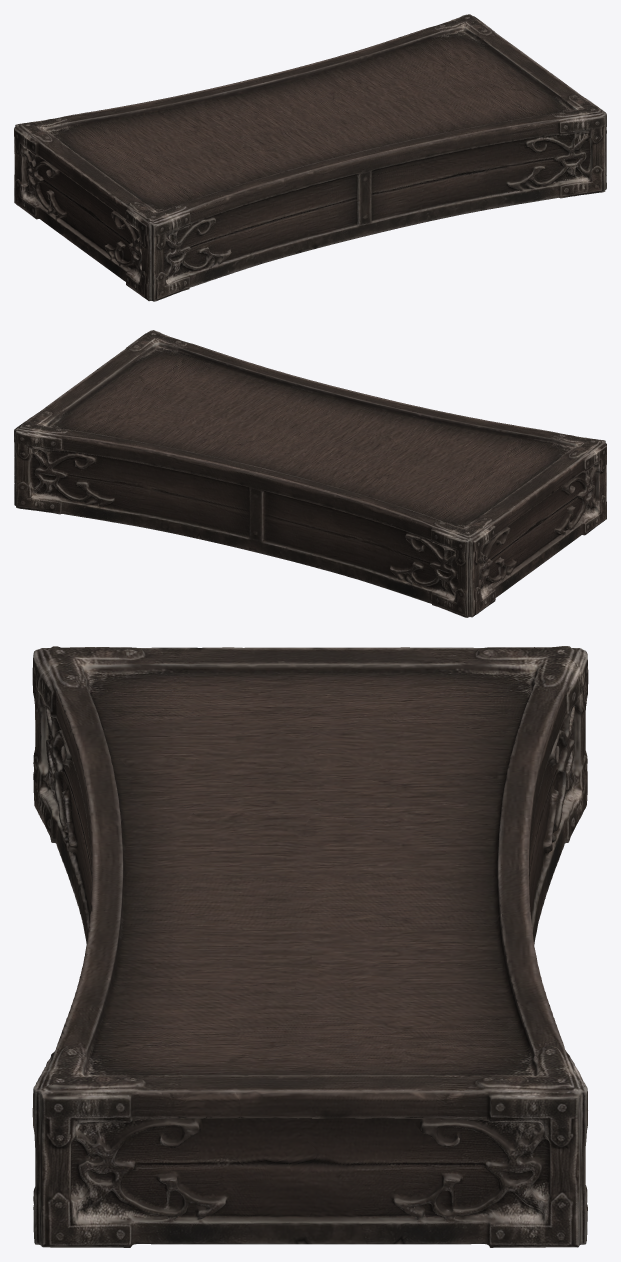
File: Meshy_AI_Ironbound_Shadow_Ches_1013161525_texture.obj
3 renders of one model, top to bottom at view 1: azimuth 30°, elevation 25°; view 2: azimuth 150°, elevation 25°; view 3: azimuth 270°, elevation 25°, orthographic. The views are drawn at different scales.
Visible parts, largest first — view 1: Meshy_AI_Ironbound_Shadow_Ches_1013161525_texture; view 2: Meshy_AI_Ironbound_Shadow_Ches_1013161525_texture; view 3: Meshy_AI_Ironbound_Shadow_Ches_1013161525_texture.
Part boxes in pixels (box(x1,y1,x2,y2)): Meshy_AI_Ironbound_Shadow_Ches_1013161525_texture: box(14, 14, 606, 301); Meshy_AI_Ironbound_Shadow_Ches_1013161525_texture: box(14, 330, 606, 617); Meshy_AI_Ironbound_Shadow_Ches_1013161525_texture: box(32, 646, 588, 1247).
Bounding box in the file's own units: 1.9 × 0.3157 × 0.9867.
Materials: 1 (1 with a texture image).
